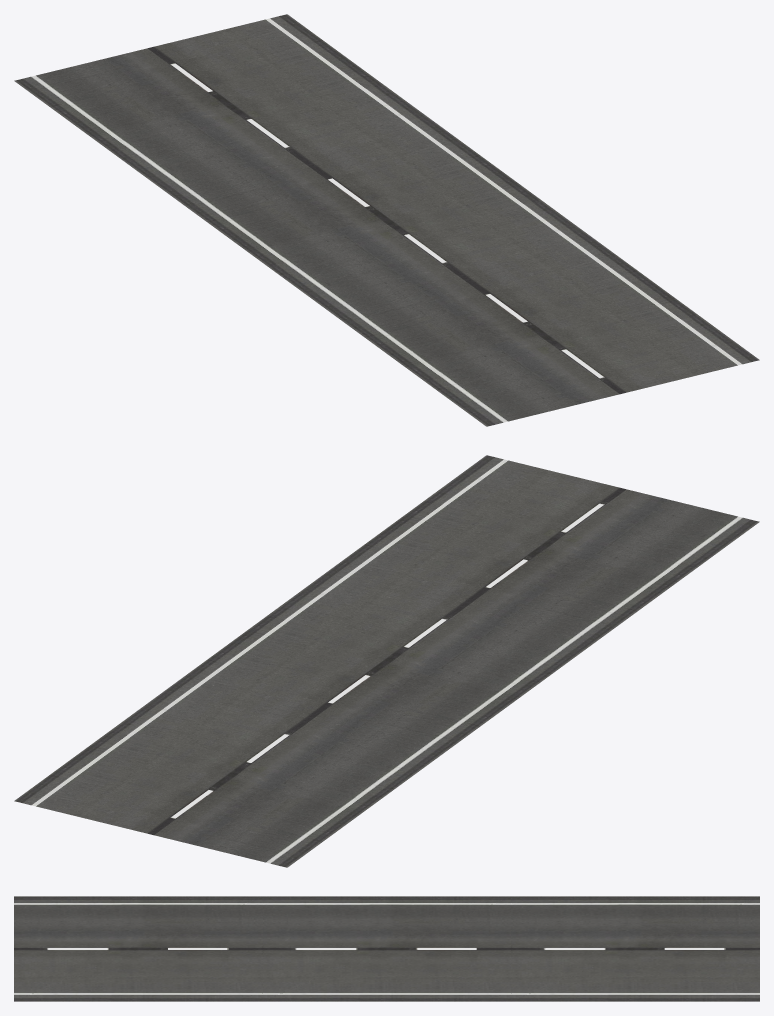
Rendered from street.dae.
3 renders of one model, top to bottom at view 1: azimuth 30°, elevation 25°; view 2: azimuth 150°, elevation 25°; view 3: azimuth 270°, elevation 25°, orthographic. The views are drawn at different scales.
Parts seen in each view (by area): view 1: Plane_000_002, Plane_000_001, Plane_000; view 2: Plane_000_001, Plane_000_002, Plane_000; view 3: Plane_000_002, Plane_000_001, Plane_000.
Part boxes in pixels (box(x1,y1,x2,y2)): Plane_000_002: box(329, 244, 759, 426); Plane_000_001: box(14, 14, 444, 195); Plane_000: box(172, 129, 601, 310); Plane_000_001: box(14, 685, 444, 867); Plane_000_002: box(329, 455, 759, 636); Plane_000: box(172, 570, 601, 751); Plane_000_002: box(14, 896, 262, 1001); Plane_000_001: box(511, 896, 759, 1001); Plane_000: box(262, 896, 511, 1001).
Size of the model in its own units: 12.38 by 37.09 by 0.000185.
Materials: 9 (3 with a texture image).
